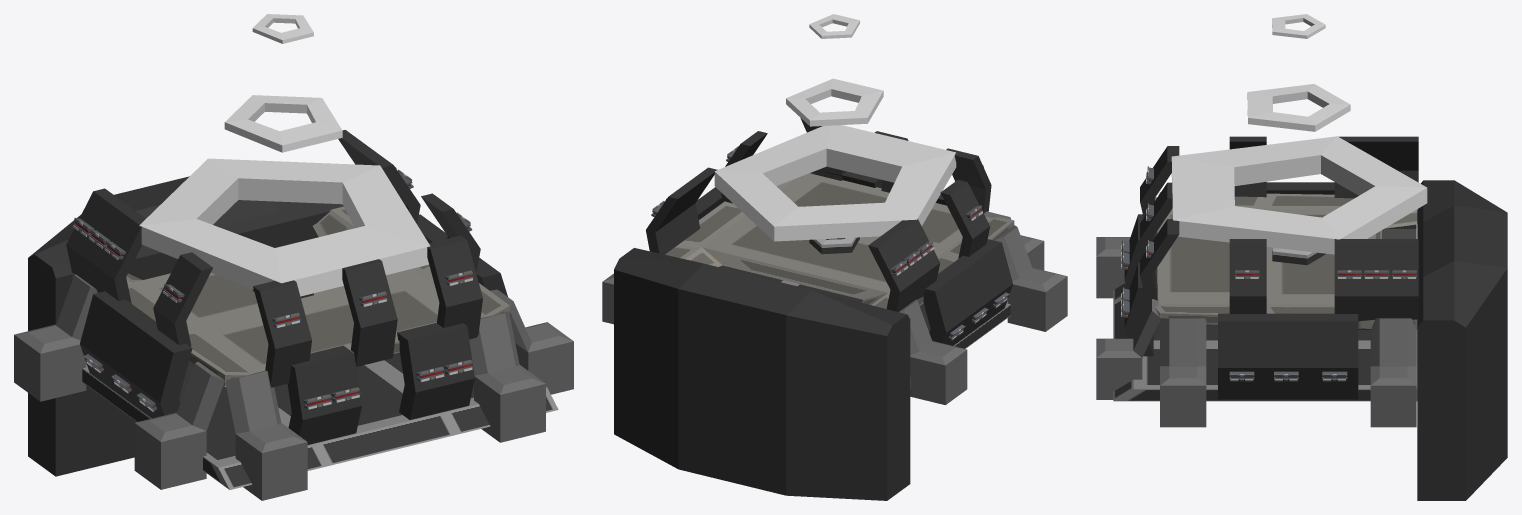
File: vaderCastle_visibleMeshDeco.fbx
3 renders of one model, left to right at view 1: azimuth 30°, elevation 25°; view 2: azimuth 150°, elevation 25°; view 3: azimuth 270°, elevation 25°, orthographic. The views are drawn at different scales.
Visible parts, largest first — view 1: Vader_Caslte_visibleMesh, metal_DEco18; view 2: Vader_Caslte_visibleMesh, metal_DEco18; view 3: Vader_Caslte_visibleMesh, metal_DEco18.
Part boxes in pixels (left/top/right/bottom): Vader_Caslte_visibleMesh: left=14, top=14, right=573, bottom=500; metal_DEco18: left=73, top=167, right=473, bottom=411; Vader_Caslte_visibleMesh: left=602, top=14, right=1067, bottom=500; metal_DEco18: left=651, top=146, right=1009, bottom=340; Vader_Caslte_visibleMesh: left=1096, top=14, right=1507, bottom=500; metal_DEco18: left=1121, top=166, right=1416, bottom=381.
Size of the model in its own units: 21.87 by 23.42 by 21.61.
